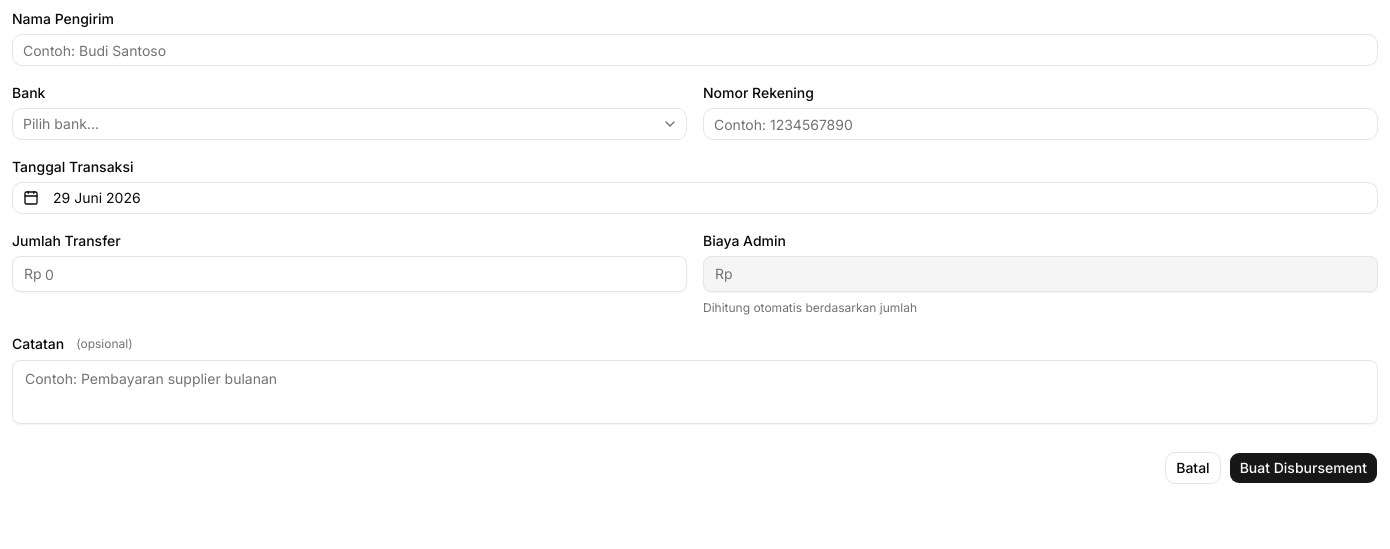
Test case: DisbursementForm — validasi › account_number = "abc" → tampilkan error "Hanya boleh angka"
Type "abc" into the field with placeholder "Contoh: 1234567890" at (1040, 124), box x1=703 y1=108 x2=1378 y2=140
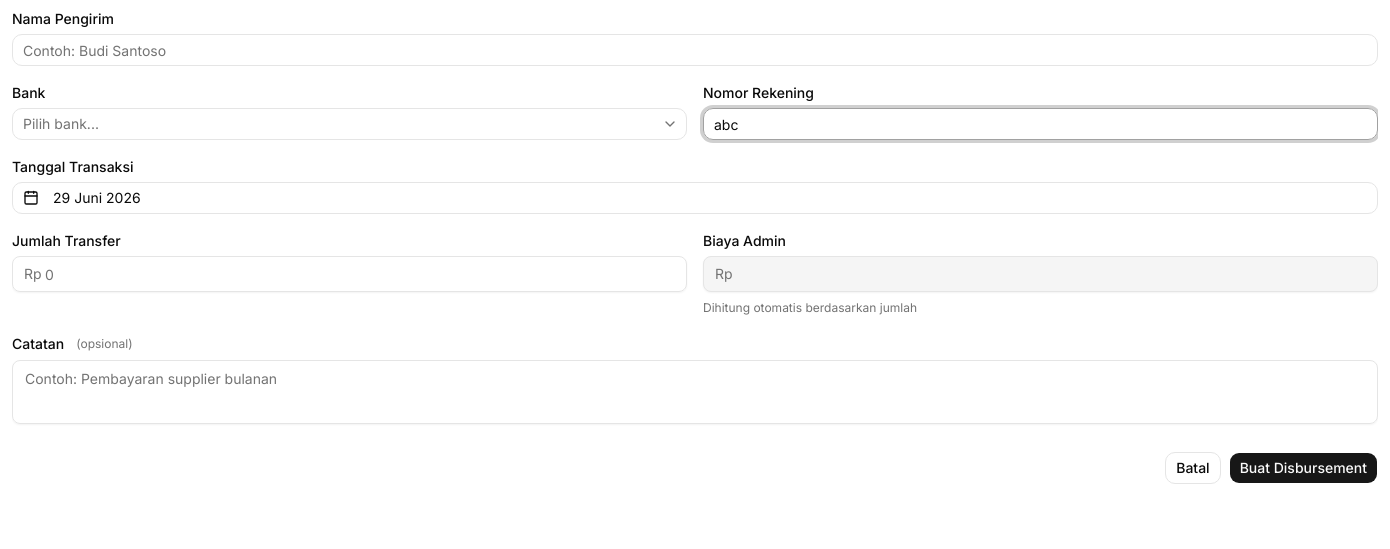
Click the button "Buat Disbursement" at (1303, 468), box x1=1229 y1=452 x2=1378 y2=484
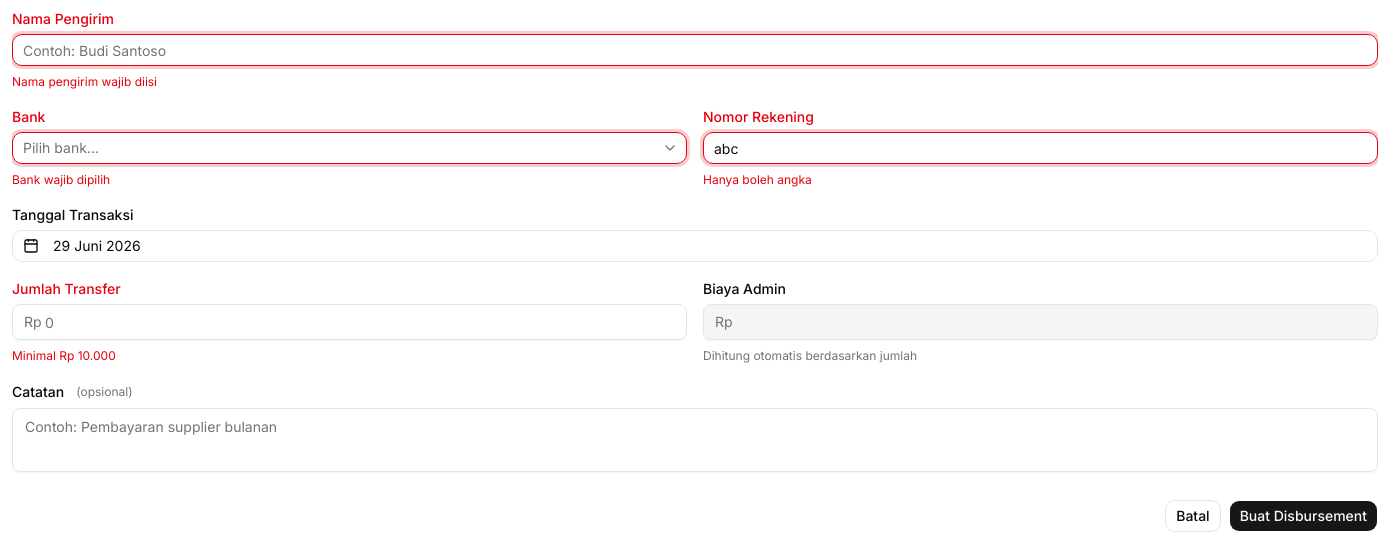
Expected: the text "Hanya boleh angka" is shown, x1=703 y1=172 x2=812 y2=187
